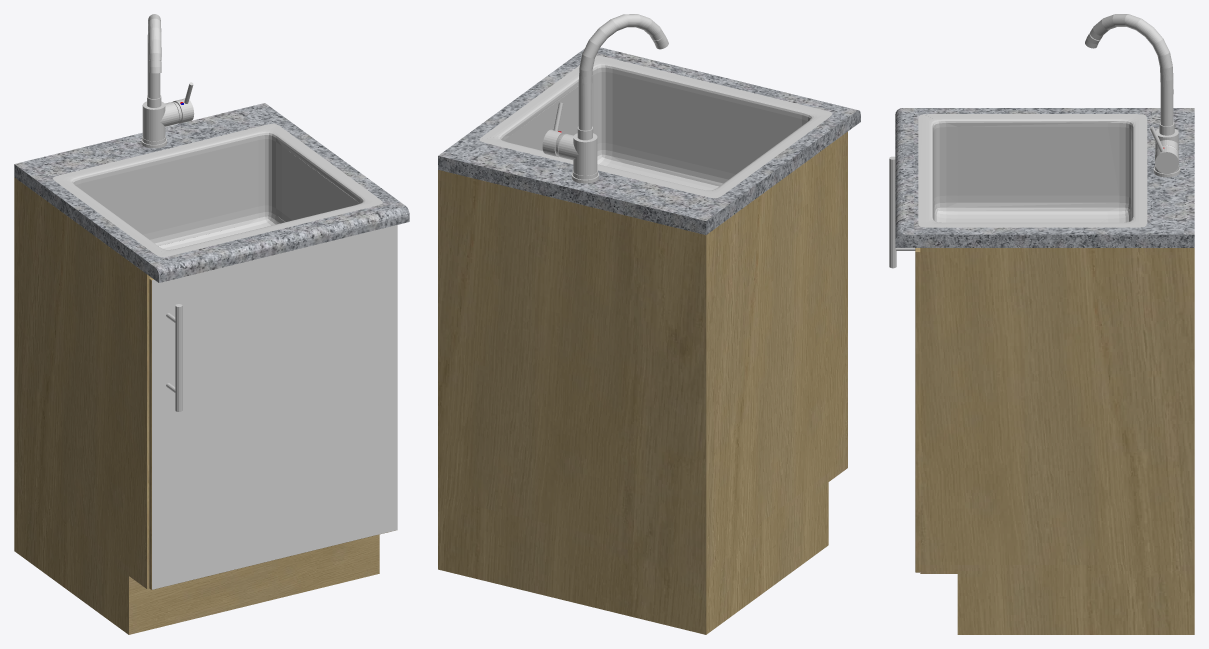
The model's file is b0-sinkcabinet2.glb.
3 views of the same model, side by side, from view 1: azimuth 30°, elevation 25°; view 2: azimuth 150°, elevation 25°; view 3: azimuth 270°, elevation 25° (orthographic). The views are drawn at different scales.
Parts seen in each view (by area): view 1: GC_100L.003_Cube.002, Cube.002_Cube.003, Cylinder.001, sweethome3d_opening_on_hinge_1_Cylinder; view 2: GC_100L.003_Cube.002, Cube.002_Cube.003, sweethome3d_opening_on_hinge_1_Cylinder, Cylinder.001; view 3: GC_100L.003_Cube.002, Cube.002_Cube.003, sweethome3d_opening_on_hinge_1_Cylinder, sweethome3d_opening_on_hinge_2_Cylinder, Cylinder.001.
Part boxes in pixels (<box>): GC_100L.003_Cube.002: <box>14,103,409,634</box>; Cube.002_Cube.003: <box>53,123,382,257</box>; Cylinder.001: <box>141,95,181,148</box>; sweethome3d_opening_on_hinge_1_Cylinder: <box>147,14,161,98</box>; GC_100L.003_Cube.002: <box>438,47,860,634</box>; Cube.002_Cube.003: <box>479,55,832,198</box>; sweethome3d_opening_on_hinge_1_Cylinder: <box>578,14,668,130</box>; Cylinder.001: <box>555,126,598,183</box>; GC_100L.003_Cube.002: <box>889,108,1194,634</box>; Cube.002_Cube.003: <box>918,114,1147,227</box>; sweethome3d_opening_on_hinge_1_Cylinder: <box>1085,14,1173,126</box>; sweethome3d_opening_on_hinge_2_Cylinder: <box>1149,126,1178,173</box>; Cylinder.001: <box>1153,122,1180,177</box>.
Bounding box in the file's own units: 0.6 × 1.21 × 0.612.
7 materials, 2 textured.
